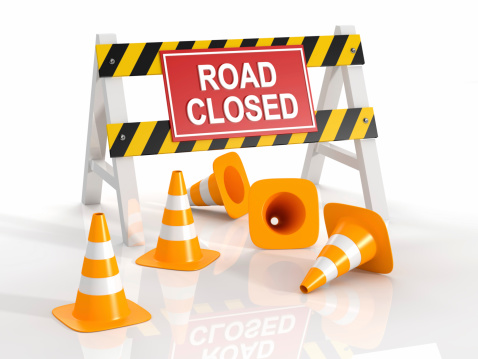trafficcone: (52, 212, 152, 333), (299, 202, 393, 294), (135, 170, 220, 271), (249, 178, 319, 249), (186, 151, 250, 219)
